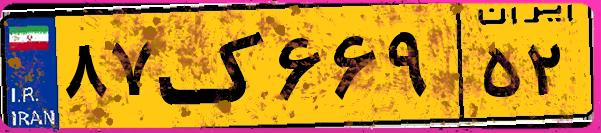2: (525, 38, 570, 115)
5: (475, 38, 525, 113)
6: (270, 28, 330, 110), (330, 28, 385, 110)
7: (110, 28, 158, 98)
8: (57, 26, 110, 100)
9: (385, 28, 445, 110)
ک: (158, 12, 270, 120)
